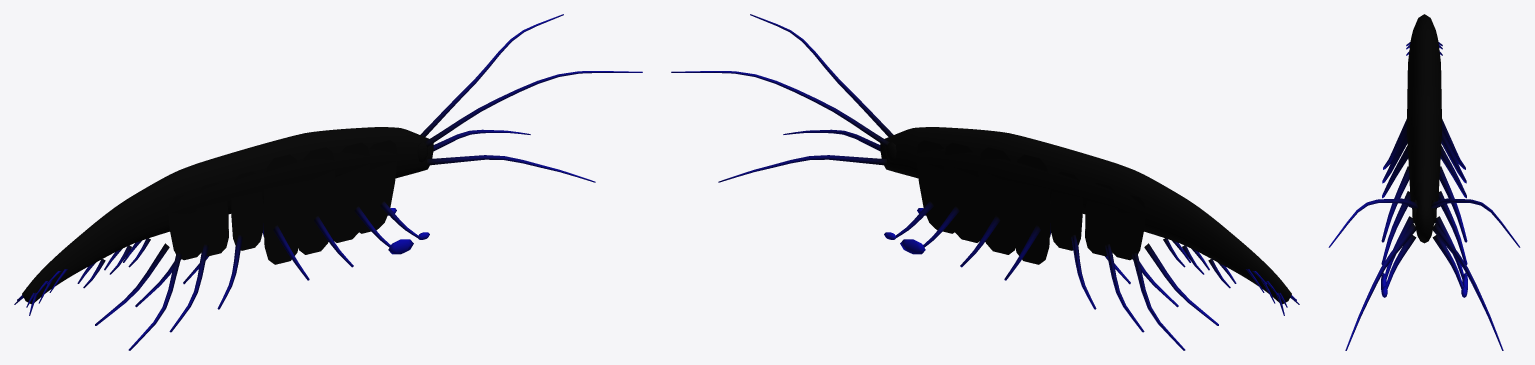
Rendered from micro_amphipod.glb.
3 renders of one model, left to right at view 1: azimuth 30°, elevation 25°; view 2: azimuth 150°, elevation 25°; view 3: azimuth 270°, elevation 25°, orthographic. The views are drawn at different scales.
Visible parts, largest first — view 1: Body, Legs, Antennae; view 2: Body, Legs, Antennae; view 3: Body, Legs, Antennae.
Part boxes in pixels (x1=…): Body: x1=22, y1=127, x2=433, y2=304; Legs: x1=14, y1=201, x2=429, y2=350; Antennae: x1=420, y1=14, x2=642, y2=182; Body: x1=880, y1=127, x2=1291, y2=304; Legs: x1=884, y1=201, x2=1299, y2=350; Antennae: x1=671, y1=14, x2=893, y2=182; Body: x1=1407, y1=14, x2=1441, y2=243; Legs: x1=1381, y1=42, x2=1467, y2=297; Antennae: x1=1328, y1=198, x2=1520, y2=350.
Bounding box in the file's own units: 1.42 × 0.421 × 0.3353.
Materials: 2 (1 with a texture image).
